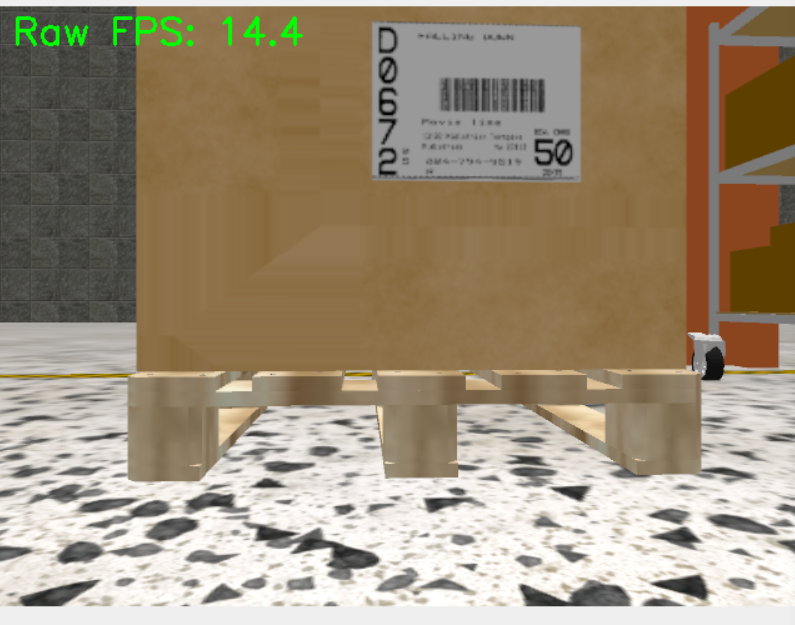barcode: (370, 21, 583, 184)
